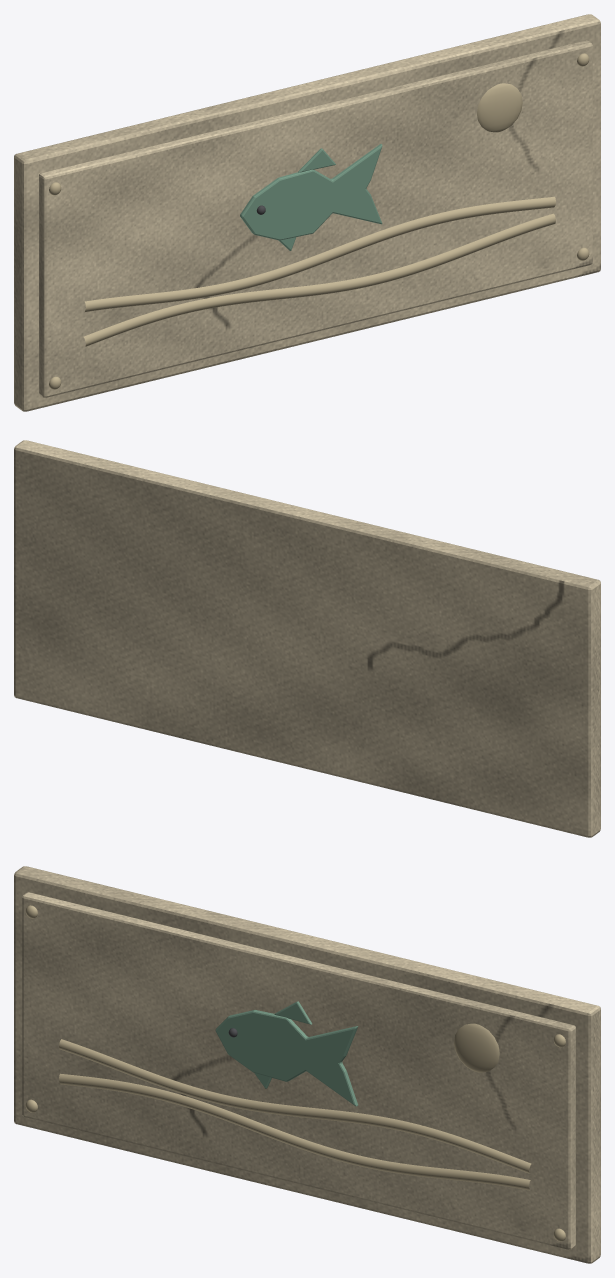
File: wall_mural_koi.glb
3 views of the same model, one above another, from view 1: azimuth 30°, elevation 25°; view 2: azimuth 150°, elevation 25°; view 3: azimuth 330°, elevation 25° (orthographic).
Parts seen in each view (by area): view 1: wall_mural_koi; view 2: wall_mural_koi; view 3: wall_mural_koi.
Boxes of the visible parts, left/top/right/bottom form: wall_mural_koi: left=14, top=14, right=600, bottom=411; wall_mural_koi: left=14, top=440, right=600, bottom=837; wall_mural_koi: left=14, top=866, right=600, bottom=1263.
Size of the model in its own units: 4.8 by 2 by 0.31.
4 materials, 2 textured.
